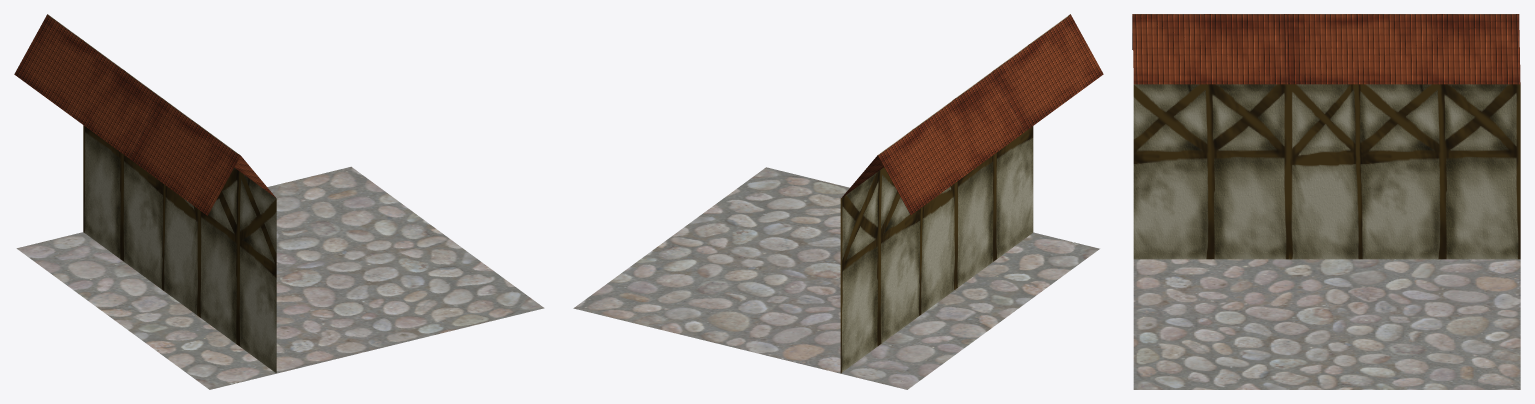
The model's file is 3-5_Long_Wall_v1.fbx.
3 renders of one model, left to right at view 1: azimuth 30°, elevation 25°; view 2: azimuth 150°, elevation 25°; view 3: azimuth 270°, elevation 25°, orthographic.
Visible parts, largest first — view 1: Long_wall_V1; view 2: Long_wall_V1; view 3: Long_wall_V1.
Boxes of the visible parts, x1=… form: Long_wall_V1: x1=14, y1=14, x2=544, y2=389; Long_wall_V1: x1=573, y1=14, x2=1103, y2=389; Long_wall_V1: x1=1132, y1=14, x2=1520, y2=389.
Size of the model in its own units: 101 by 64.88 by 100.
Materials: 2 (2 with a texture image).
